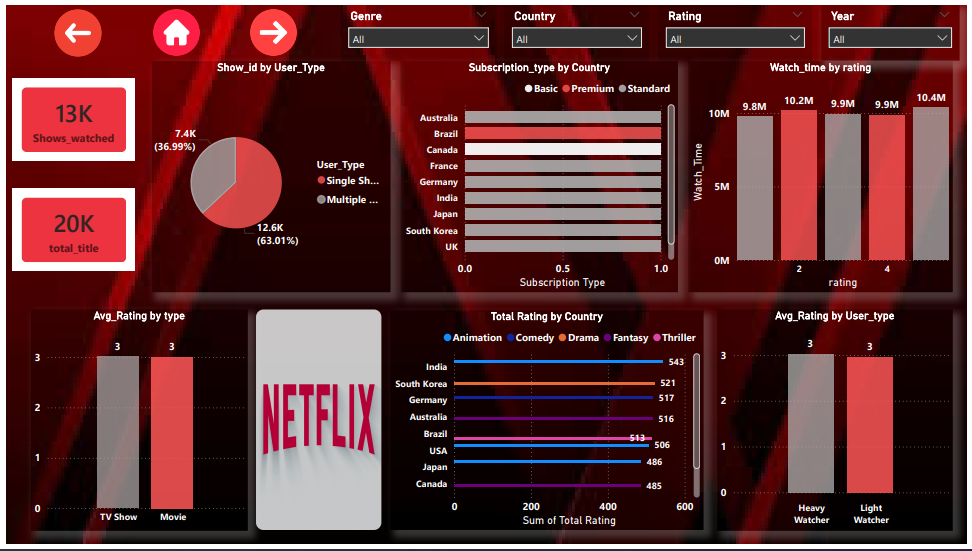

This screenshot's page, from the dashboard's own definition file:
{"tool":"powerbi","page":{"name":"End","canvas":[1280,720],"ordinal":3},"visuals":[{"type":"barChart","title":"Subscription_type by Country ","fields":{"Y":["CountNonNull(subscription_country.subscription_type)"],"Category":["subscription_country.country"],"Series":["subscription_country.subscription_type"]},"box":[526.3,75.2,368.7,308],"z":0},{"type":"pieChart","title":"Show_id by User_Type","fields":{"Category":["netflix_dataset_20000 csv.User_Type"],"Y":["CountNonNull(netflix_dataset_20000 csv.show_id)"]},"box":[193.7,75.2,318.1,308],"z":1000},{"type":"columnChart","title":"Watch_time by rating","fields":{"Category":["netflix_customer_ratings_20000.rating"],"Y":["Sum(netflix_customer_ratings_20000.watch_time_minutes)"]},"box":[909.4,75.2,351.3,308],"z":2000},{"type":"clusteredBarChart","title":"Total Rating by Country ","fields":{"Category":["Final Country.country"],"Y":["Sum(Final Country.Total Rating)"],"Series":["Final Country.genre"]},"box":[512.3,406.5,416.6,294],"z":3000},{"type":"clusteredColumnChart","fields":{"Y":["netflix_customer_ratings_20000.Avg_Rating"],"Category":["netflix_dataset_20000 csv.type"]},"box":[33.3,406.3,289.2,294.9],"z":4000},{"type":"columnChart","title":"Avg_Rating by User_type","fields":{"Category":["netflix_customer_ratings_20000.Watcher_type"],"Y":["netflix_customer_ratings_20000.Avg_Rating"]},"box":[947,406.3,313.7,294.9],"z":5000},{"type":"cardVisual","fields":{"Data":["netflix_dataset_20000 csv.Shows_watched"]},"box":[4.3,92.9,172.9,120],"z":6000},{"type":"cardVisual","fields":{"Data":["netflix_customer_ratings_20000.total_title"]},"box":[4.3,240,172.9,120],"z":7000},{"type":"slicer","fields":{"Values":["netflix_dataset_20000 csv.genre","netflix_customer_ratings_20000.Watcher_type"]},"box":[445.7,0,207.1,74.3],"z":8000},{"type":"slicer","fields":{"Values":["netflix_customer_ratings_20000.country"]},"box":[664.3,0,192.9,74.3],"z":9000},{"type":"slicer","fields":{"Values":["netflix_customer_ratings_20000.rating"]},"box":[868.6,0,205.7,74.3],"z":10000},{"type":"slicer","fields":{"Values":["netflix_dataset_20000 csv.release_year"]},"box":[1085.7,0,184.3,74.3],"z":11000},{"type":"image","box":[186.5,5.8,81,62.2],"z":12000},{"type":"image","box":[316.6,5.8,78.1,62.2],"z":13000},{"type":"image","box":[49.2,2.9,94,68],"z":14000},{"type":"image","box":[332.9,405.7,167.1,294.3],"z":15000}]}

Visuals, with their boxes in screenshot pixels (x1, y1, x2, y2), scaled from the page's 1280x720 canvas onto the 972x551 screenshot:
"Subscription_type by Country " barChart: [400, 58, 680, 293]
"Show_id by User_Type" pieChart: [147, 58, 389, 293]
"Watch_time by rating" columnChart: [691, 58, 957, 293]
"Total Rating by Country " clusteredBarChart: [389, 311, 705, 536]
clusteredColumnChart - netflix_customer_ratings_20000.Avg_Rating x netflix_dataset_20000 csv.type: [25, 311, 245, 537]
"Avg_Rating by User_type" columnChart: [719, 311, 957, 537]
cardVisual - netflix_dataset_20000 csv.Shows_watched: [3, 71, 135, 163]
cardVisual - netflix_customer_ratings_20000.total_title: [3, 184, 135, 276]
slicer - netflix_dataset_20000 csv.genre x netflix_customer_ratings_20000.Watcher_type: [338, 0, 496, 57]
slicer - netflix_customer_ratings_20000.country: [504, 0, 651, 57]
slicer - netflix_customer_ratings_20000.rating: [660, 0, 816, 57]
slicer - netflix_dataset_20000 csv.release_year: [824, 0, 964, 57]
image: [142, 4, 203, 52]
image: [240, 4, 300, 52]
image: [37, 2, 109, 54]
image: [253, 310, 380, 536]
